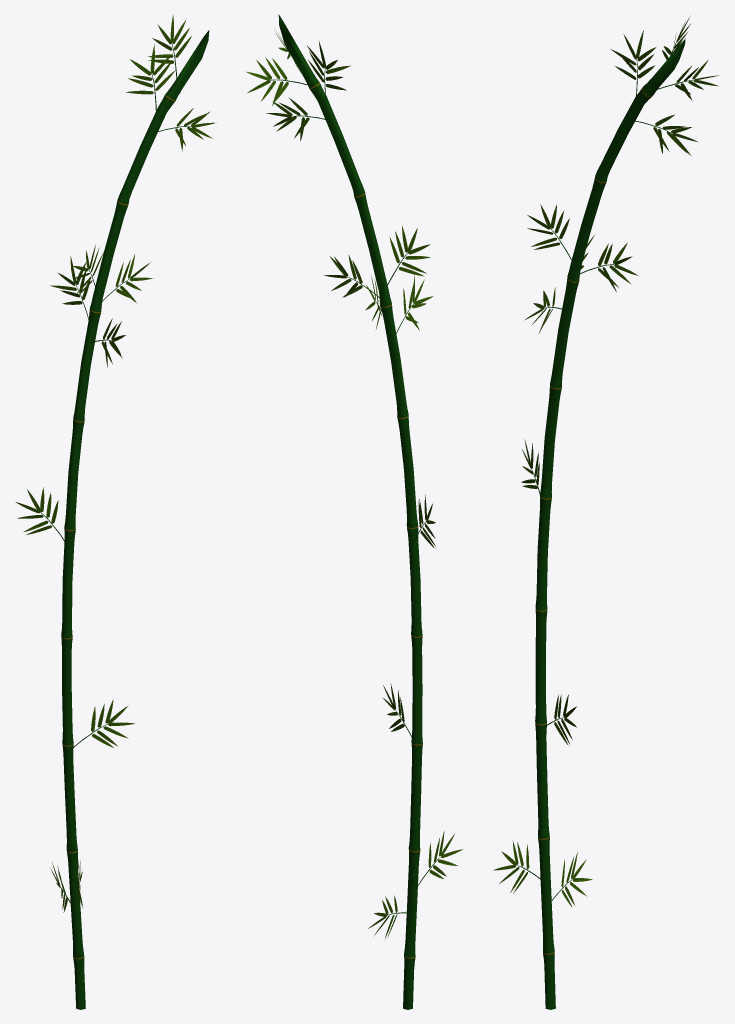
File: BambooCurvedDv1.fbx
3 renders of one model, left to right at view 1: azimuth 30°, elevation 25°; view 2: azimuth 150°, elevation 25°; view 3: azimuth 330°, elevation 25°, orthographic. The views are drawn at different scales.
Visible parts, largest first — view 1: BambooD.001; view 2: BambooD.001; view 3: BambooD.001.
Part boxes in pixels (x1,y1,x2,y2): BambooD.001: (15,15,216,1009); BambooD.001: (245,14,462,1009); BambooD.001: (493,17,718,1009).
Size of the model in its own units: 184 by 887 by 112.
